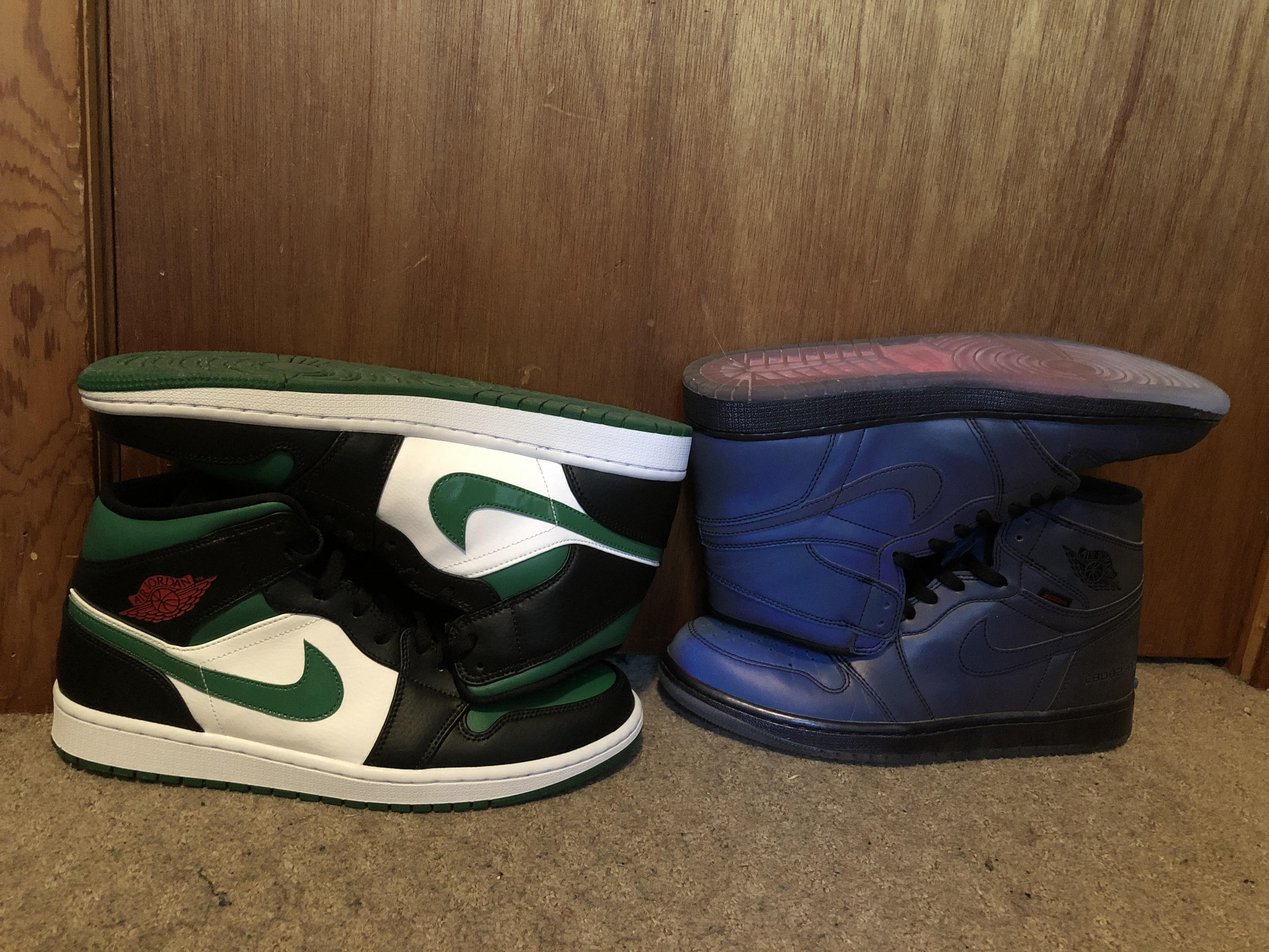sneaker: (23, 474, 655, 828), (64, 349, 687, 689), (659, 318, 1269, 664), (646, 466, 1165, 771)
